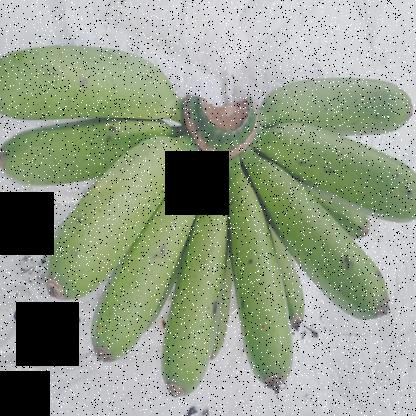unripe: (36, 121, 206, 317), (85, 161, 230, 370), (259, 157, 396, 325), (218, 154, 307, 411), (159, 162, 239, 401), (0, 41, 176, 126), (274, 116, 415, 221), (0, 113, 191, 185), (264, 58, 416, 138)
